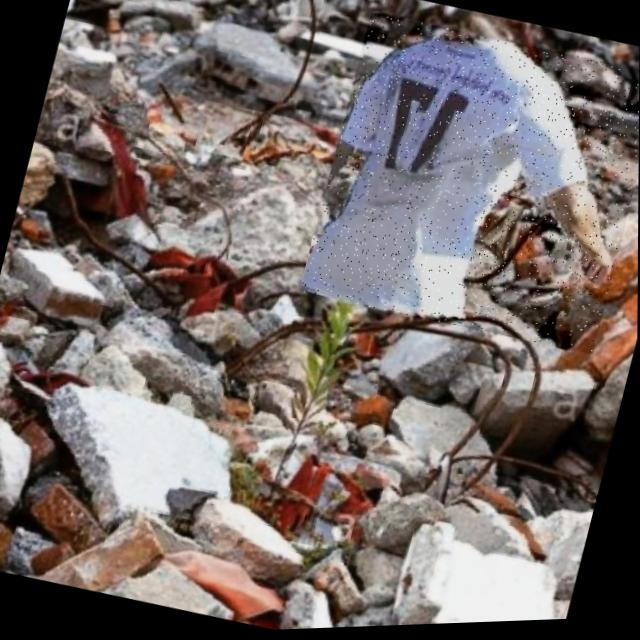Person in Rubble: (299, 6, 640, 367)
